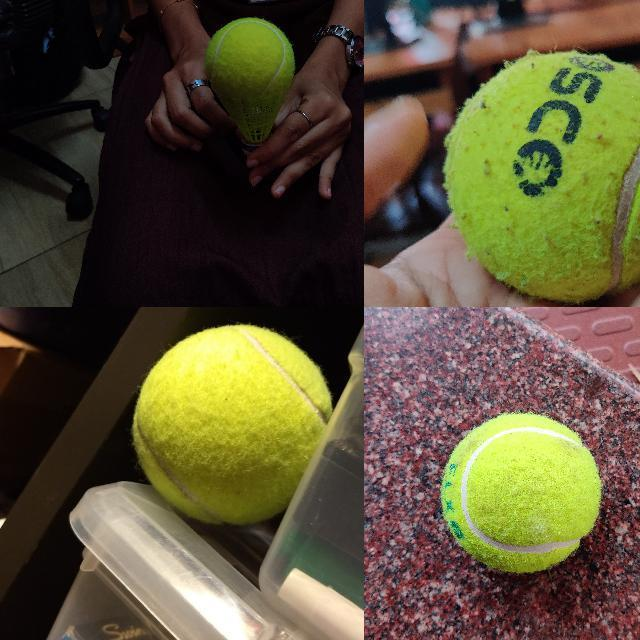tennis-ball: (443, 50, 639, 302), (131, 319, 302, 482), (442, 414, 600, 573), (207, 18, 294, 89)
